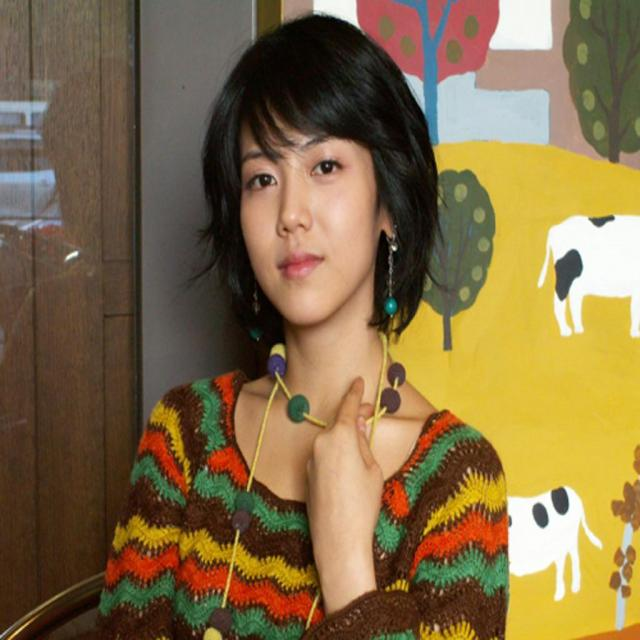nomask: (242, 87, 378, 323)
